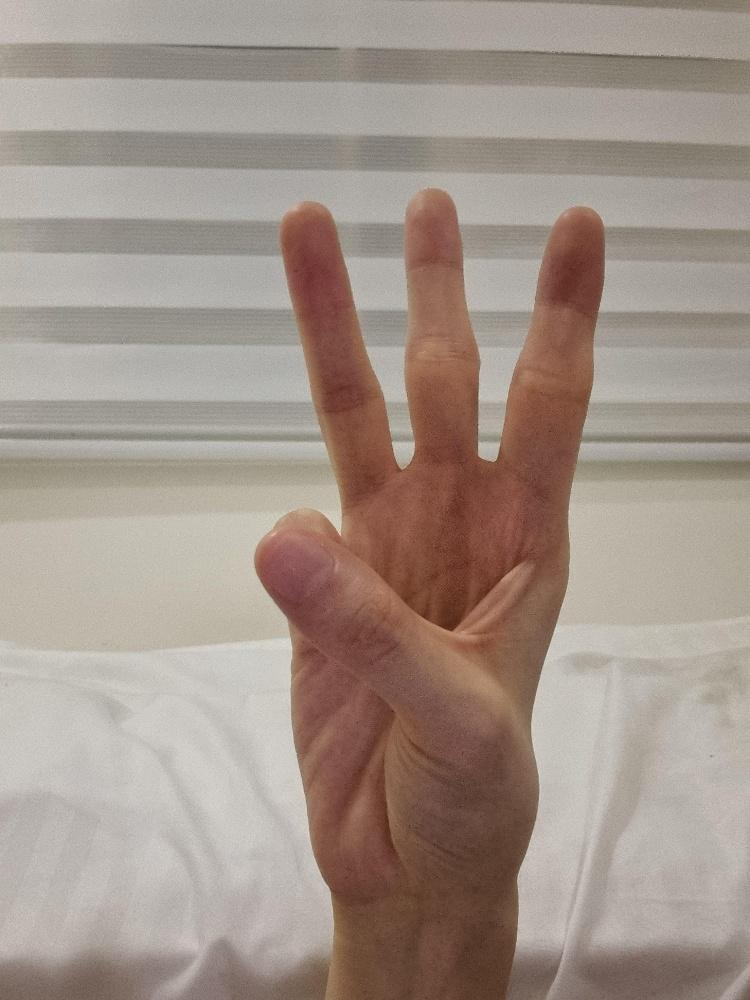w: (250, 182, 607, 896)
